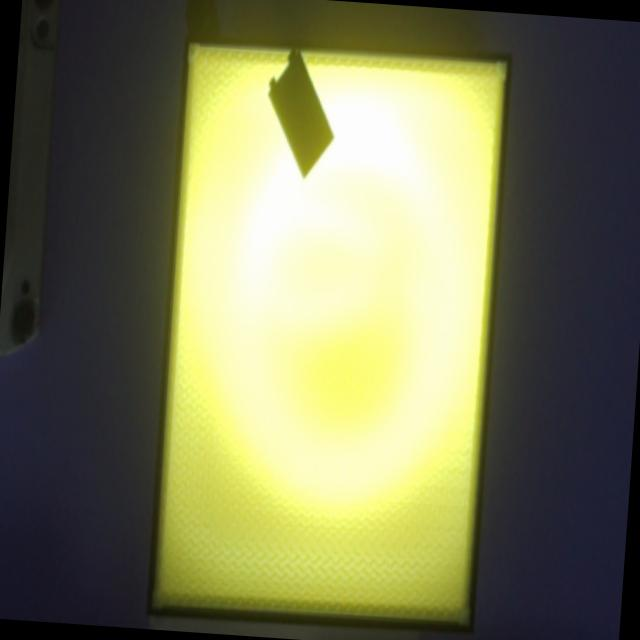bateria: (267, 45, 335, 182)
mesa: (146, 33, 511, 634)
